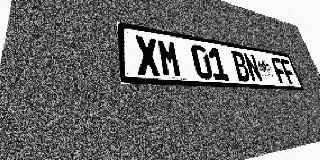0: (190, 44, 214, 79)
1: (206, 47, 229, 80)
B: (230, 51, 252, 82)
F: (270, 57, 289, 84), (279, 59, 298, 84)
M: (156, 39, 183, 78)
N: (242, 53, 264, 82)
X: (134, 35, 162, 77)
